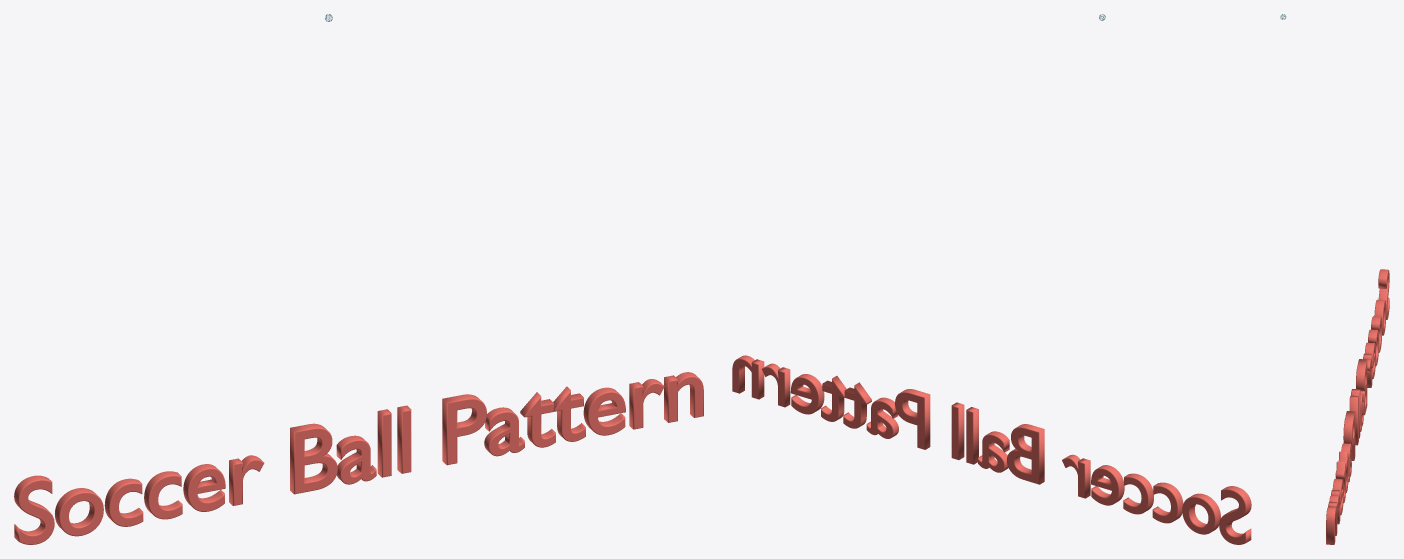
File: broke2-model2-transformed.glb
3 views of the same model, side by side, from view 1: azimuth 30°, elevation 25°; view 2: azimuth 150°, elevation 25°; view 3: azimuth 270°, elevation 25° (orthographic). The views are drawn at different scales.
Visible parts, largest first — view 1: Text; view 2: Text; view 3: Text.
Part boxes in pixels (box(x1,y1,x2,y2)): Text: box(14, 372, 703, 544); Text: box(732, 355, 1251, 544); Text: box(1326, 269, 1389, 544).
Bounding box in the file's own units: 6.83 × 5.26 × 1.35.
